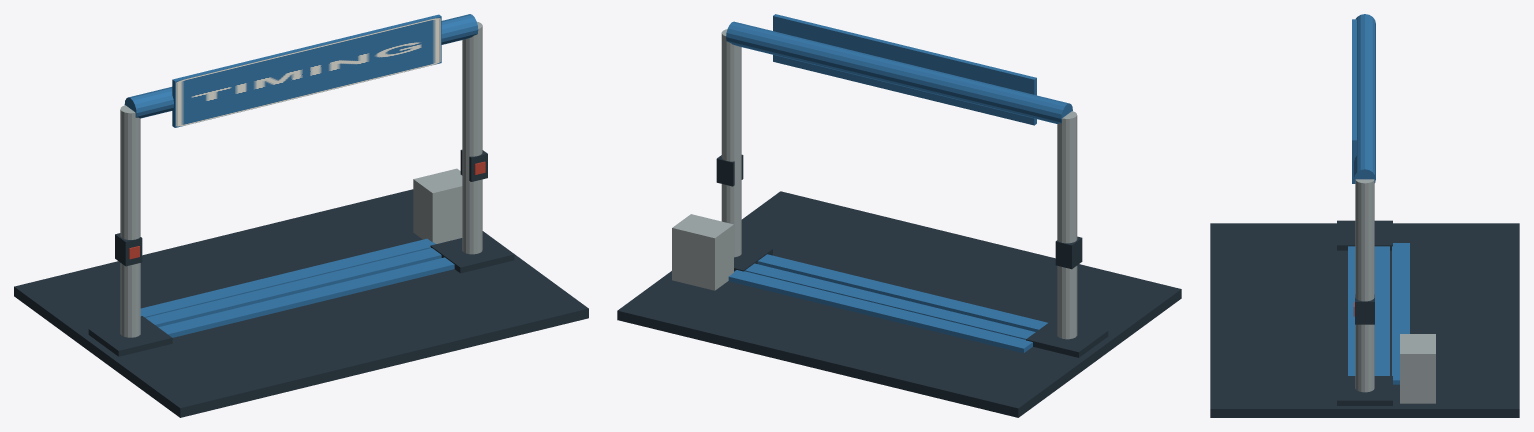
Rendered from scendance-plan-timing-point.glb.
The picture shows the model from 3 angles, left to right: view 1: azimuth 30°, elevation 25°; view 2: azimuth 150°, elevation 25°; view 3: azimuth 270°, elevation 25°; orthographic projection. The views are drawn at different scales.
Bounding box in the file's own units: 4.4 × 2.71 × 3.1.
Materials: 5 (1 with a texture image).
